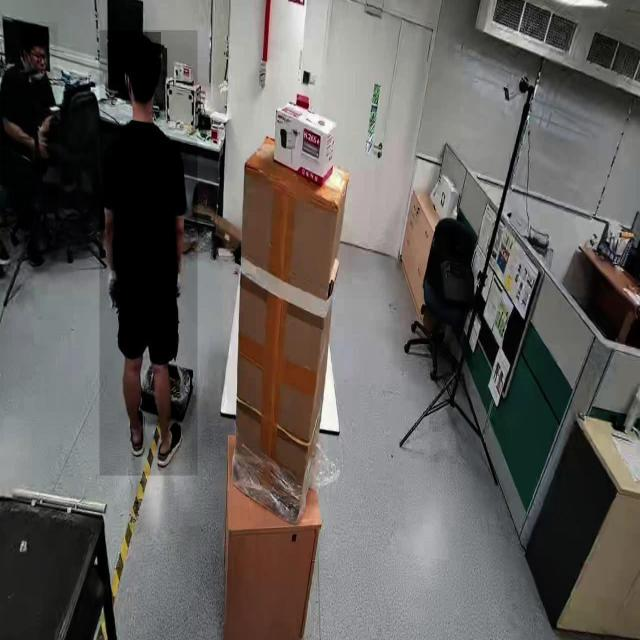hand_noglove: (30, 135, 48, 158)
head_nohelmet: (126, 32, 162, 74), (20, 27, 50, 45)
person: (100, 31, 198, 477), (1, 22, 59, 267)
shoes: (125, 399, 149, 457), (156, 418, 182, 469)
